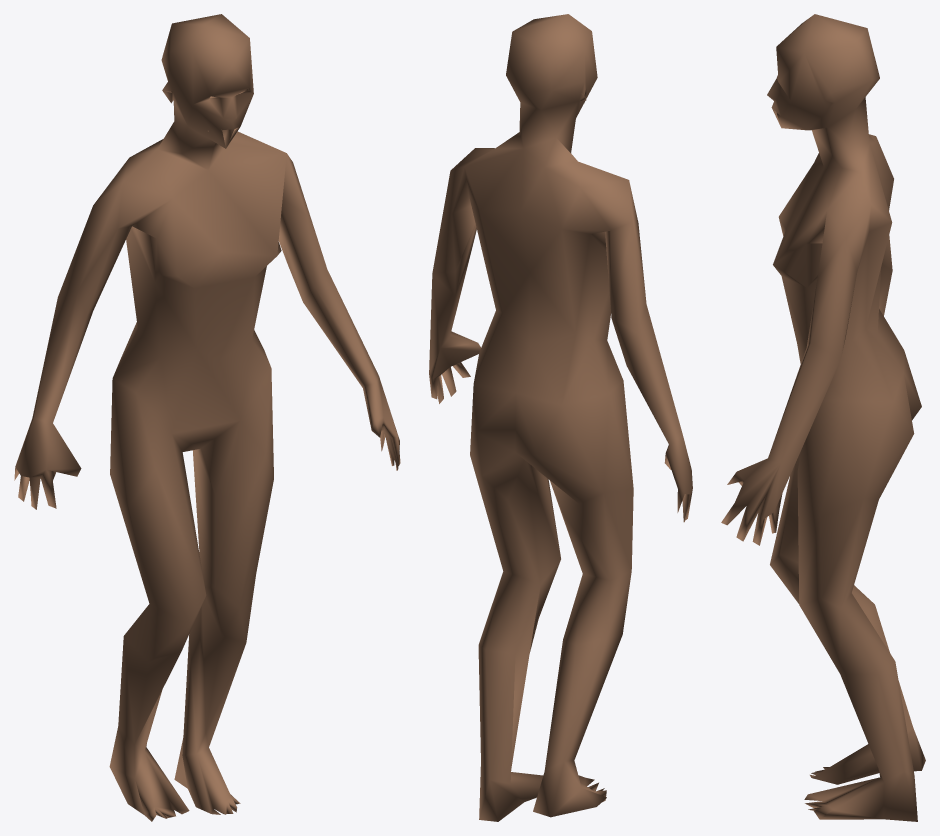
File: obs_000008.obj
3 renders of one model, left to right at view 1: azimuth 30°, elevation 25°; view 2: azimuth 150°, elevation 25°; view 3: azimuth 270°, elevation 25°, orthographic. The views are drawn at different scales.
Visible parts, largest first — view 1: 1-base; view 2: 1-base; view 3: 1-base.
Boxes of the visible parts, x1,y1,x2,y2 form: 1-base: (14,14,400,821); 1-base: (429,14,692,821); 1-base: (721,14,925,821).
Bounding box in the file's own units: 0.6067 × 1.45 × 0.341.
